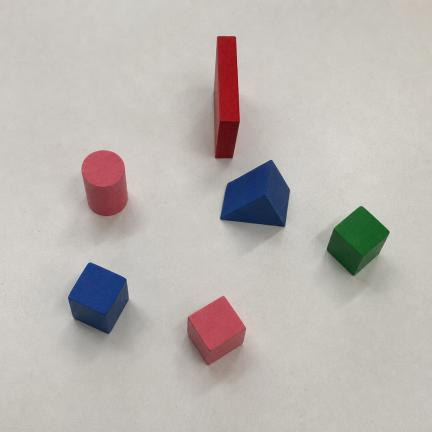BuildingBlocks: (221, 160, 290, 226), (327, 207, 389, 275), (69, 263, 128, 333), (188, 297, 245, 364), (214, 37, 239, 158), (82, 151, 127, 215)
